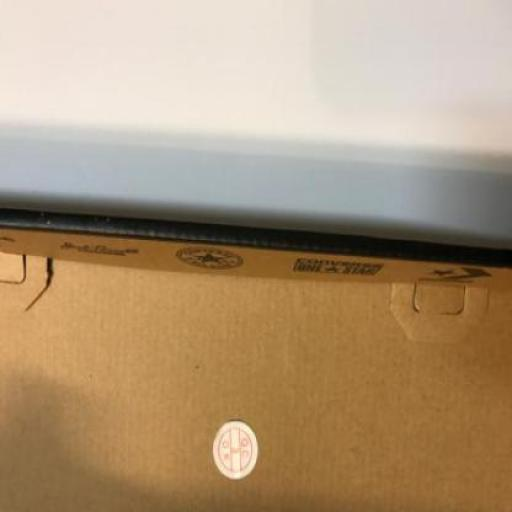cardboard: (0, 206, 511, 510)
